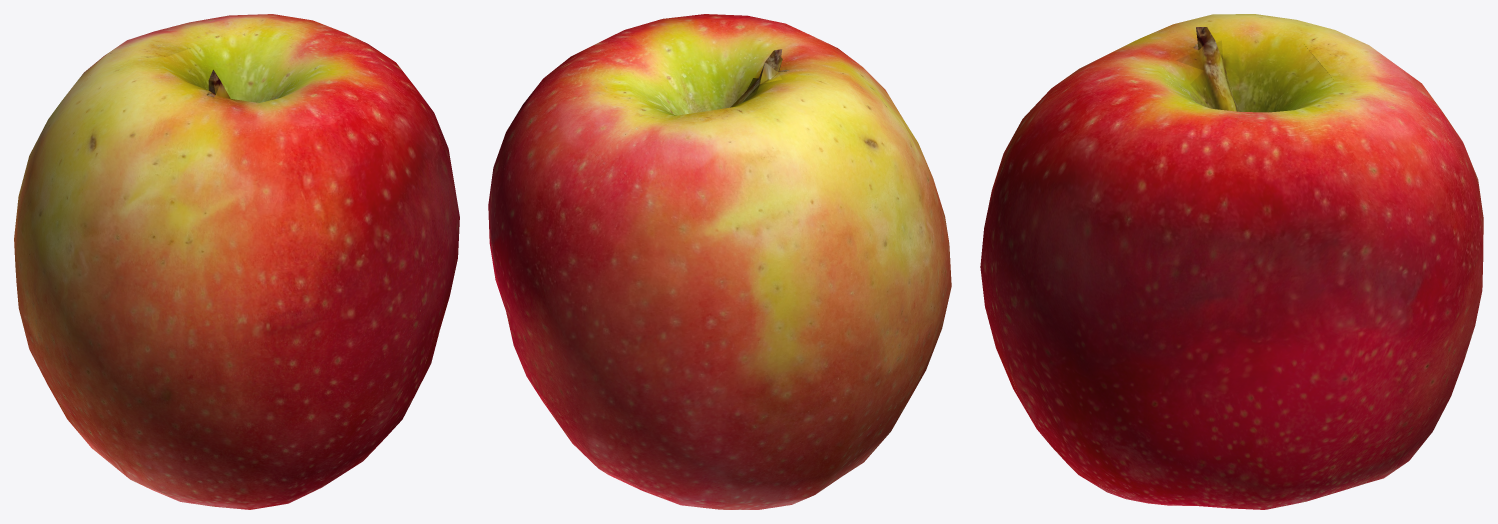
The model's file is apple_scan_lowpoly.glb.
3 renders of one model, left to right at view 1: azimuth 30°, elevation 25°; view 2: azimuth 150°, elevation 25°; view 3: azimuth 270°, elevation 25°, orthographic. The views are drawn at different scales.
Parts seen in each view (by area): view 1: Object_2; view 2: Object_2; view 3: Object_2.
Boxes of the visible parts, bbox=[...] form: Object_2: bbox=[14, 14, 459, 509]; Object_2: bbox=[488, 14, 951, 509]; Object_2: bbox=[980, 14, 1483, 509].
Bounding box in the file's own units: 0.5001 × 0.5263 × 0.5336.
Materials: 1 (1 with a texture image).
